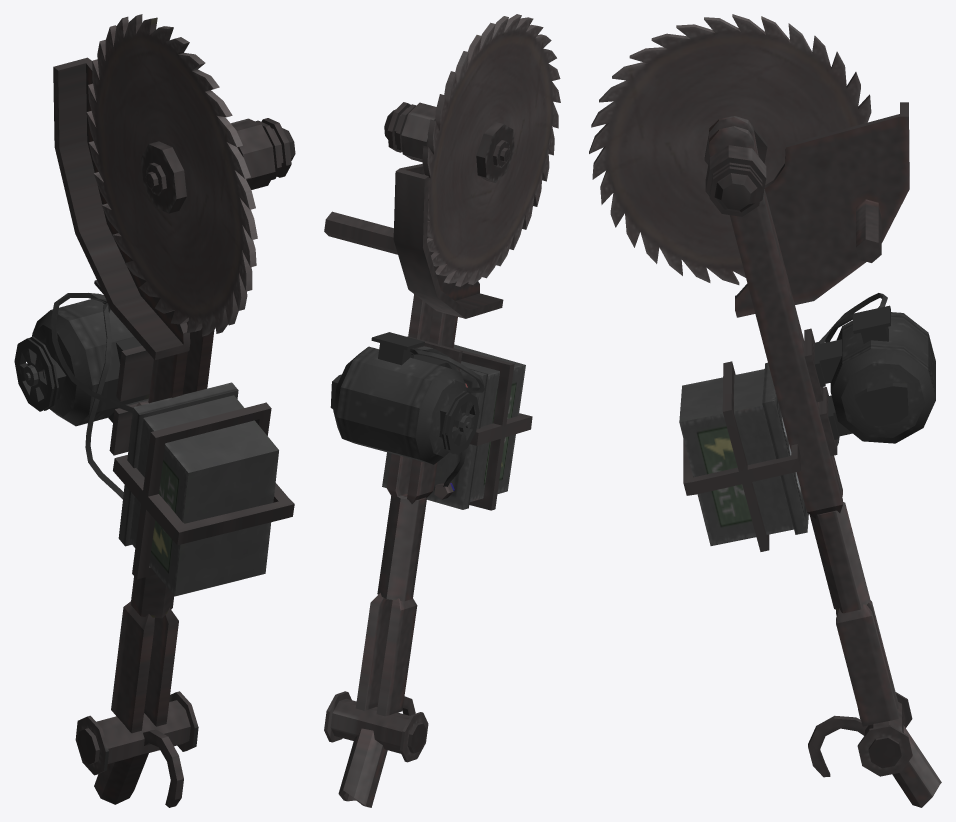
File: LegionLegendaryAxe.fbx
The picture shows the model from 3 angles, left to right: view 1: azimuth 30°, elevation 25°; view 2: azimuth 150°, elevation 25°; view 3: azimuth 270°, elevation 25°; orthographic projection. The views are drawn at different scales.
Parts seen in each view (by area): view 1: Cylinder.004; view 2: Cylinder.004; view 3: Cylinder.004.
Boxes of the visible parts, x1=… form: Cylinder.004: x1=14, y1=14, x2=295, y2=807; Cylinder.004: x1=324, y1=14, x2=560, y2=807; Cylinder.004: x1=589, y1=14, x2=941, y2=807.
Bounding box in the file's own units: 0.1324 × 0.6092 × 0.2539.
